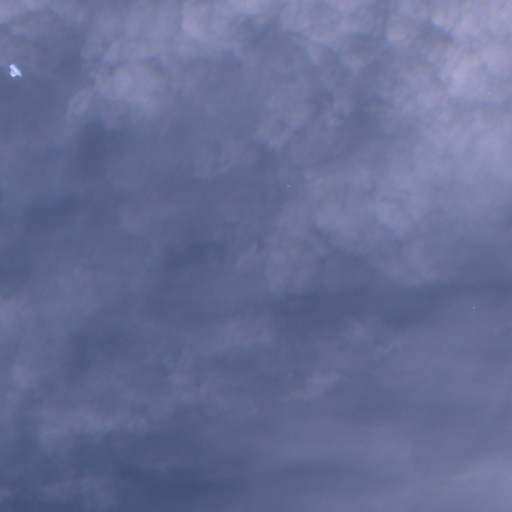Iceberg: (9, 64, 21, 76), (287, 185, 288, 186), (473, 307, 474, 308)
